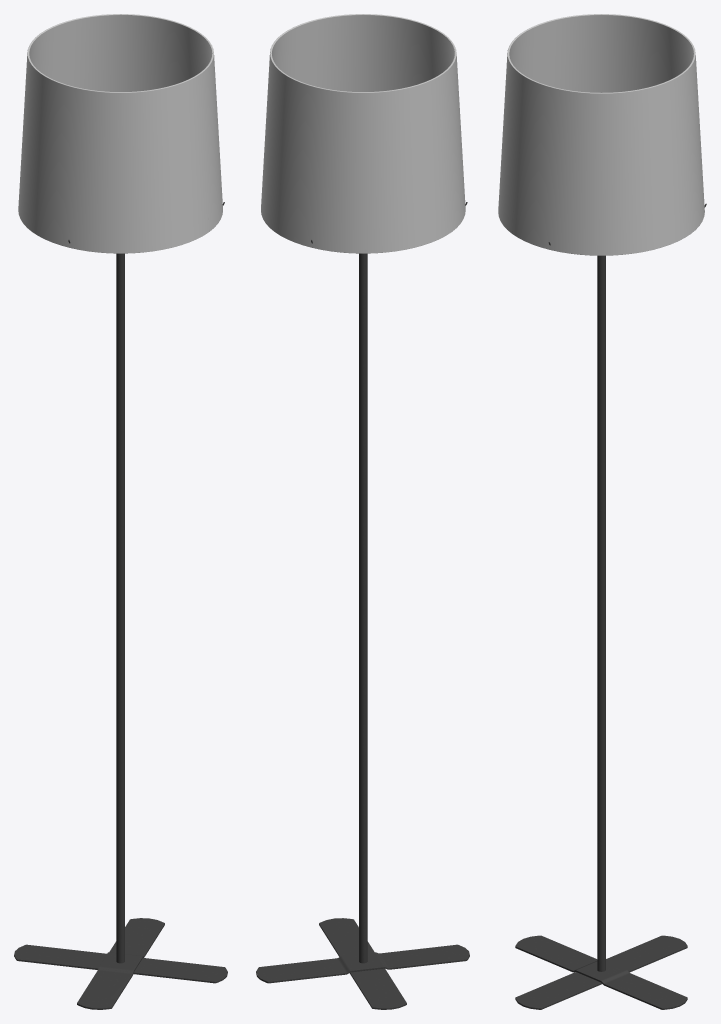
The model's file is Lamp_007.gltf.
3 renders of one model, left to right at view 1: azimuth 30°, elevation 25°; view 2: azimuth 150°, elevation 25°; view 3: azimuth 270°, elevation 25°, orthographic.
Visible parts, largest first — view 1: Lamp_007; view 2: Lamp_007; view 3: Lamp_007.
Boxes of the visible parts, x1,y1,x2,y2 form: Lamp_007: [14, 14, 227, 1009]; Lamp_007: [256, 14, 469, 1009]; Lamp_007: [498, 14, 706, 1009].
Bounding box in the file's own units: 0.3049 × 1.5 × 0.3077.
1 material, 1 textured.
